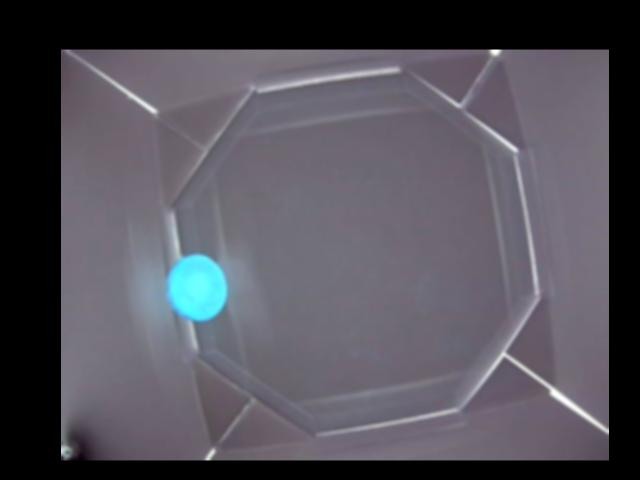Carrot: (168, 254, 228, 320)
